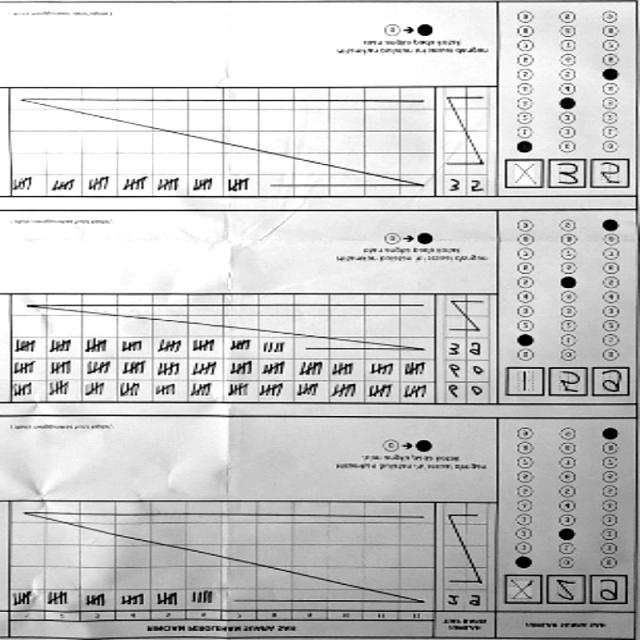Suara: (498, 362, 634, 404), (498, 154, 634, 196), (498, 570, 634, 611)
